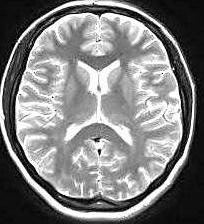Normal_Brain: (1, 1, 204, 224)
